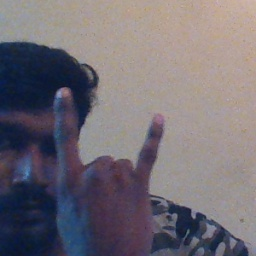V: (38, 81, 172, 256)
